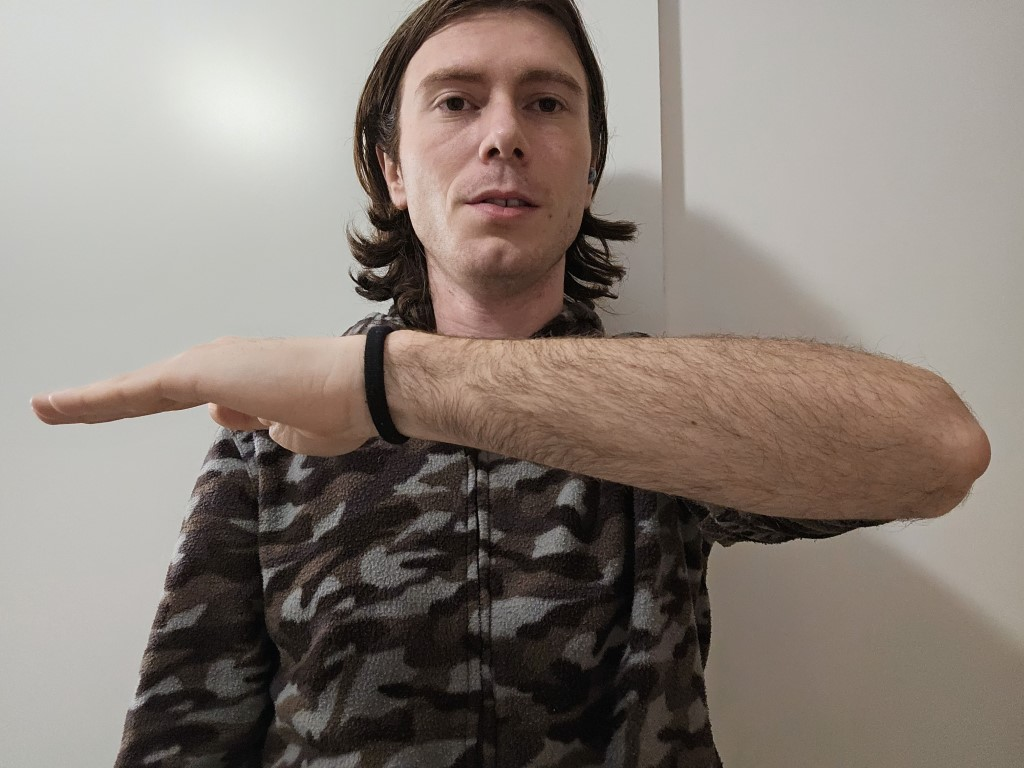space: (18, 316, 1010, 542)
